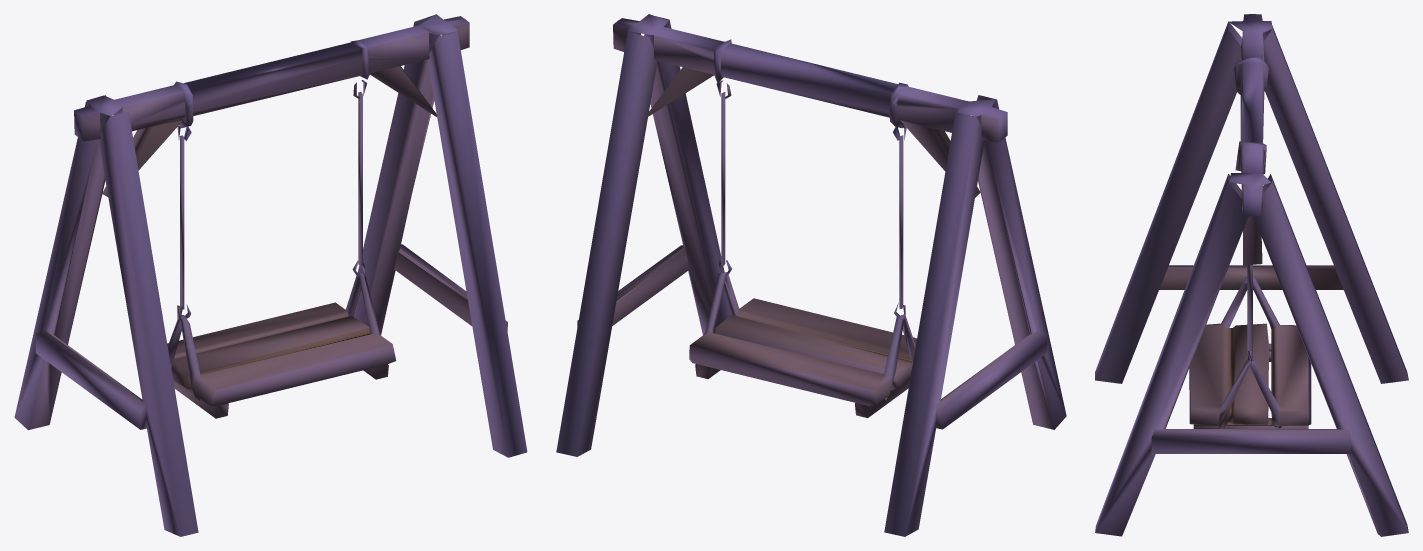
The model's file is model.progressive.glb.
3 renders of one model, left to right at view 1: azimuth 30°, elevation 25°; view 2: azimuth 150°, elevation 25°; view 3: azimuth 270°, elevation 25°, orthographic. The views are drawn at different scales.
Parts seen in each view (by area): view 1: material; view 2: material; view 3: material.
Boxes of the visible parts, box(x1,y1,x2,y2) form: material: box(14, 14, 527, 536); material: box(556, 14, 1066, 536); material: box(1095, 14, 1408, 536).
Bounding box in the file's own units: 1.9 × 1.77 × 1.41.
1 material, 1 textured.
